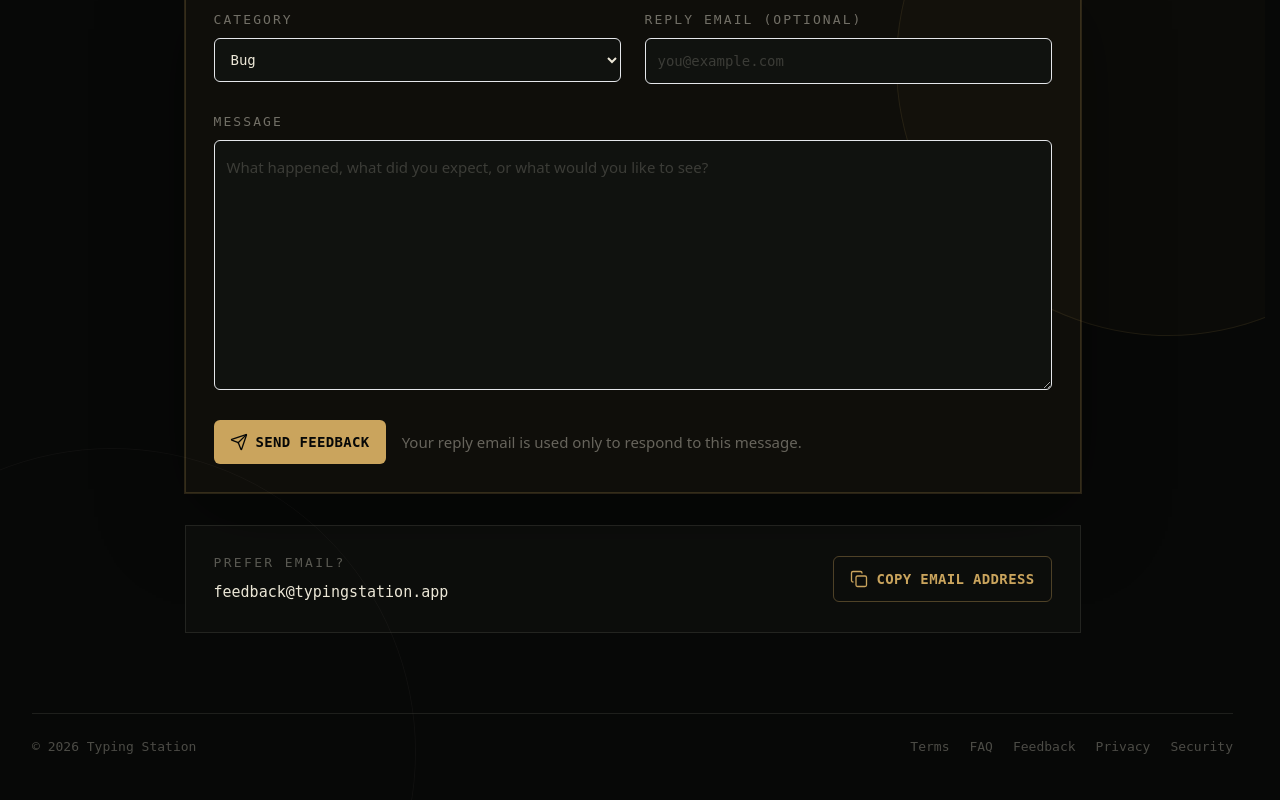
FeedbackPage › announces clipboard errors and leaves the address available to copy manually
This screenshot has width=1280, height=800.
(page scrolled)
What coordinates should you click on to do the following:
click the button "Copy email address"
I would click on:
 (942, 579)
Its box is [834,556,1052,602].
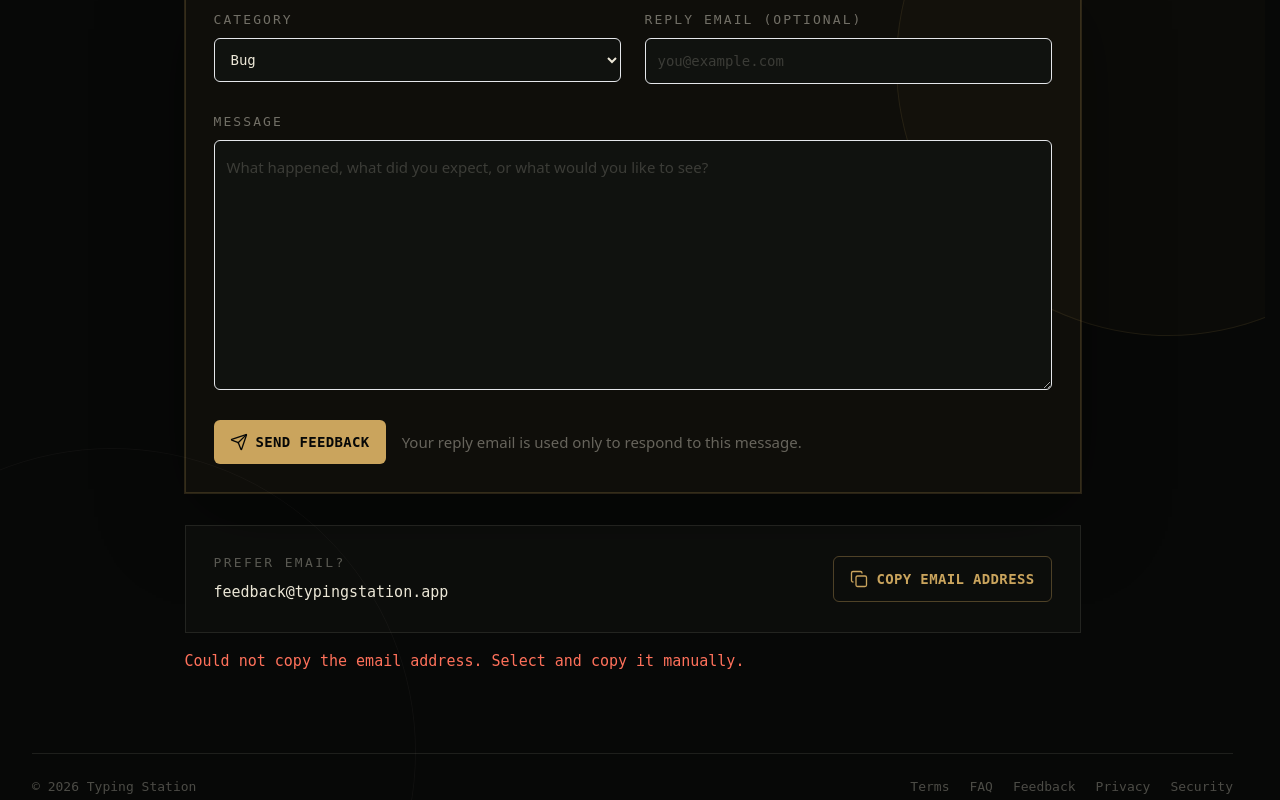
Expected: the text "feedback@typingstation.app" is shown, [214,580,448,604]
Expected: the message reads "Could not copy the email address. Select and copy it manually.", [184,652,744,670]
